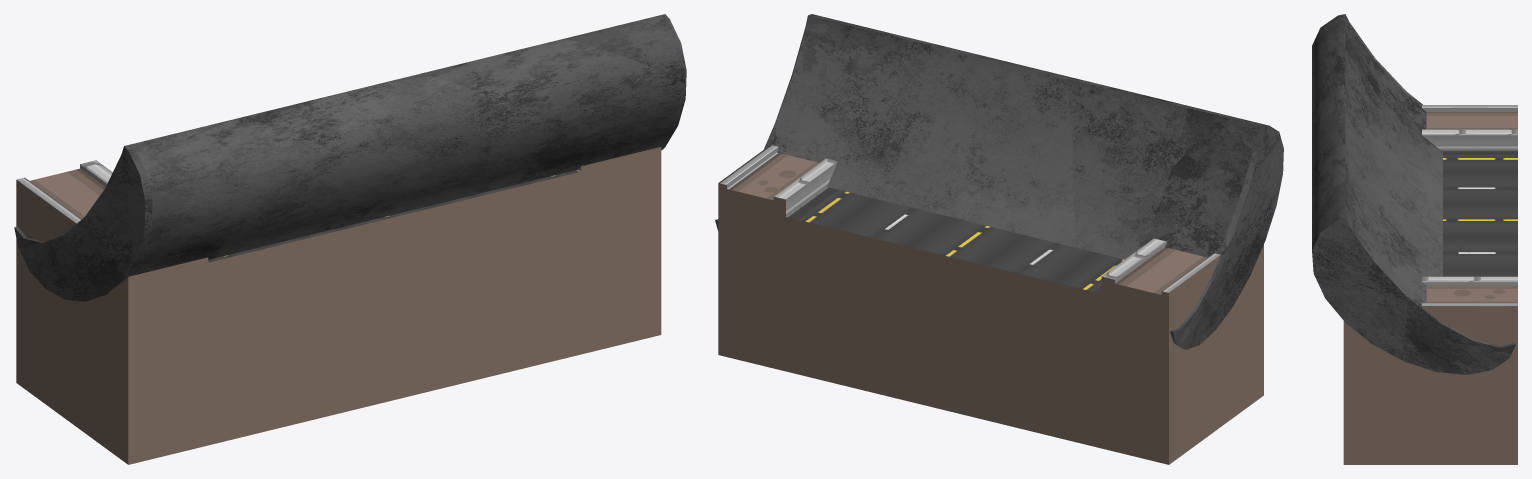
Rendered from high jump.fbx.
The picture shows the model from 3 angles, left to right: view 1: azimuth 30°, elevation 25°; view 2: azimuth 150°, elevation 25°; view 3: azimuth 270°, elevation 25°; orthographic projection. The views are drawn at different scales.
Visible parts, largest first — view 1: pCube8, pCylinder3; view 2: pCube8, pCylinder3; view 3: pCylinder3, pCube8.
Boxes of the visible parts, x1,y1,x2,y2 form: pCube8: (16, 147, 661, 464); pCylinder3: (14, 14, 686, 301); pCube8: (718, 145, 1263, 464); pCylinder3: (715, 14, 1283, 349); pCylinder3: (1312, 14, 1515, 374); pCube8: (1343, 105, 1517, 464).
Size of the model in its own units: 8.12 by 4.58 by 3.45.
3 materials, 2 textured.
